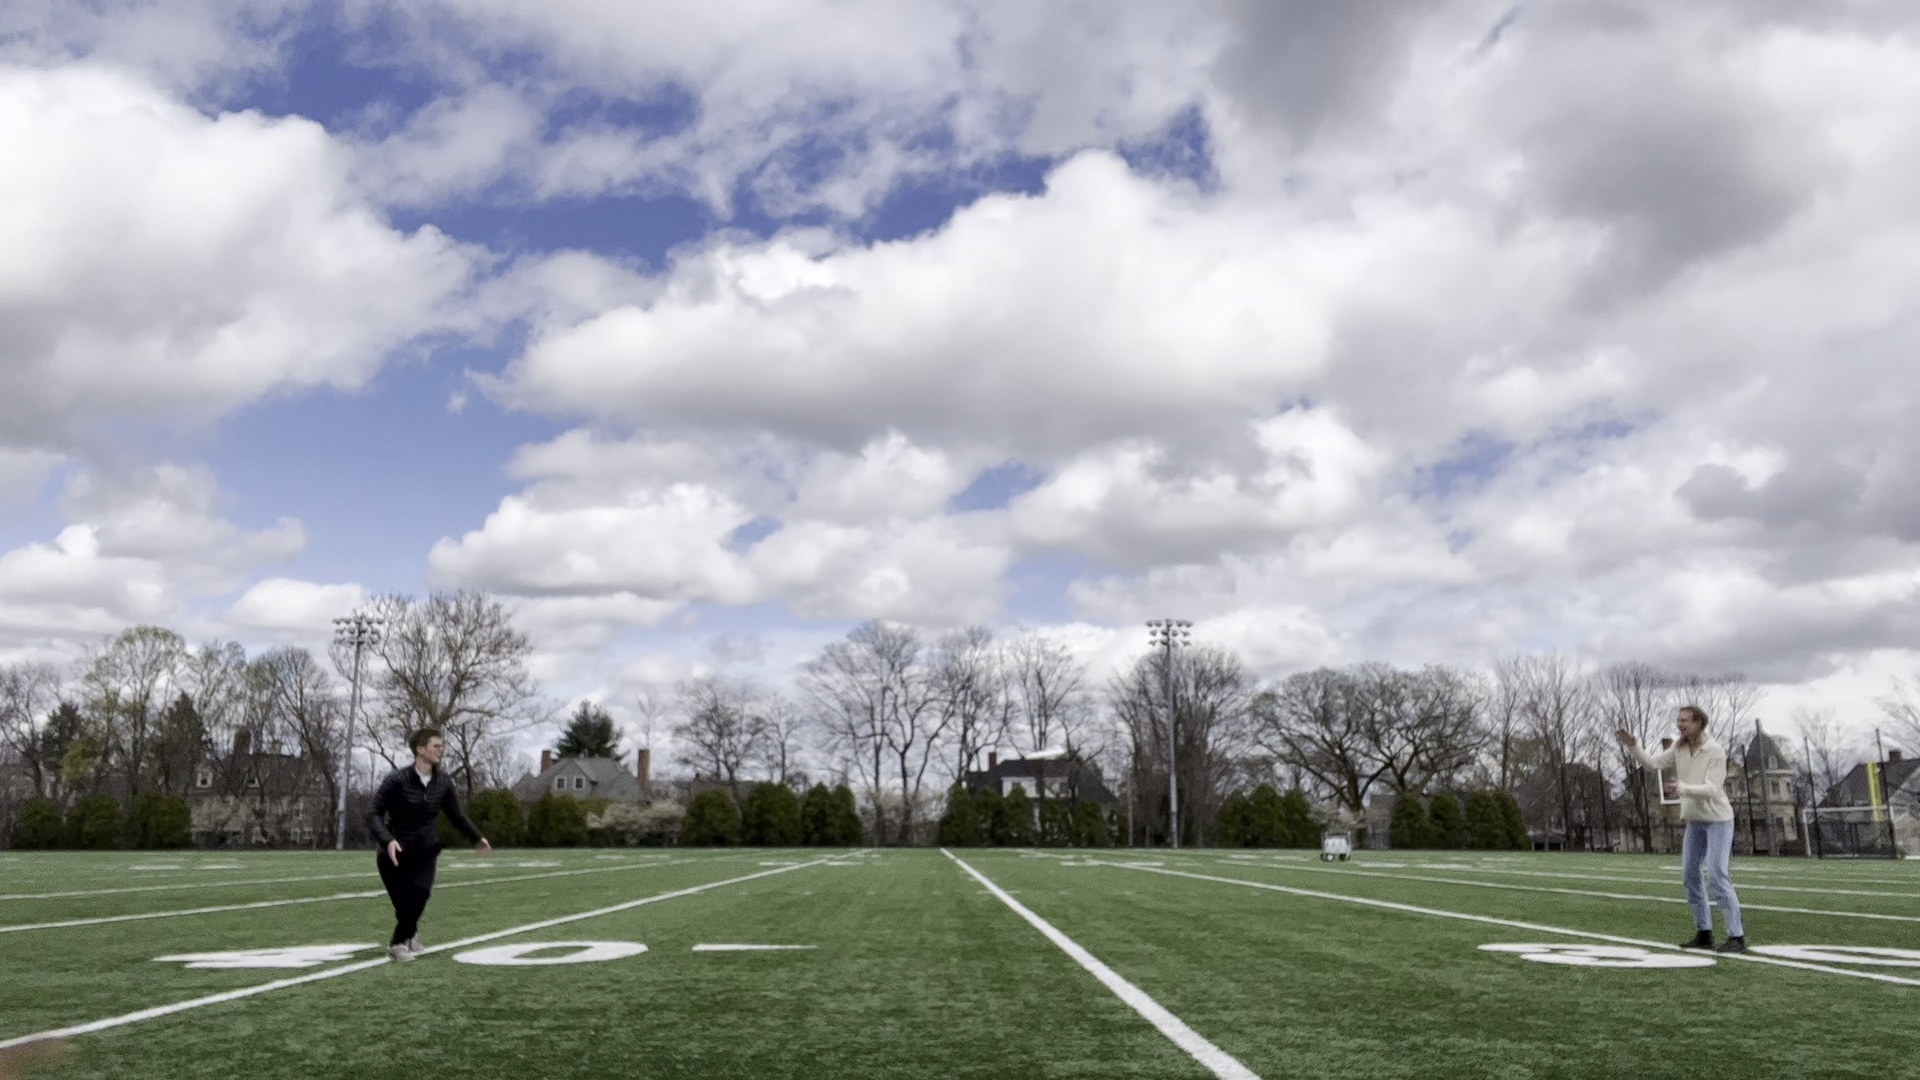Frisbee: (1021, 745, 1067, 764)
